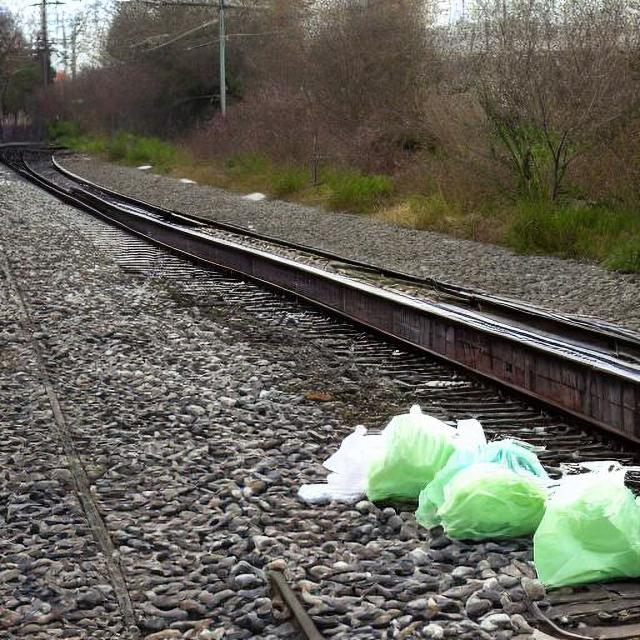plastic bag: (290, 388, 640, 604)
